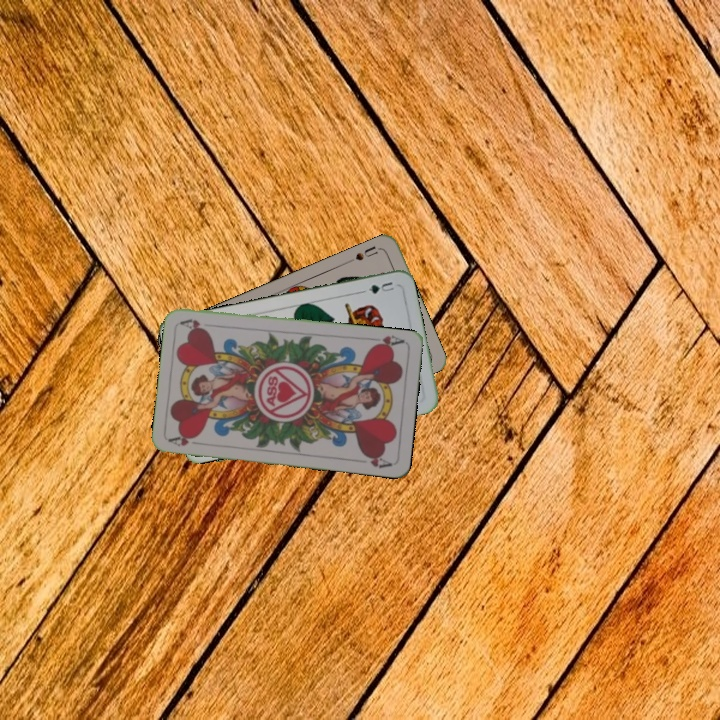GU: (364, 277, 397, 296)
HA: (367, 331, 407, 351), (166, 430, 206, 449)
SU: (344, 242, 383, 265)
